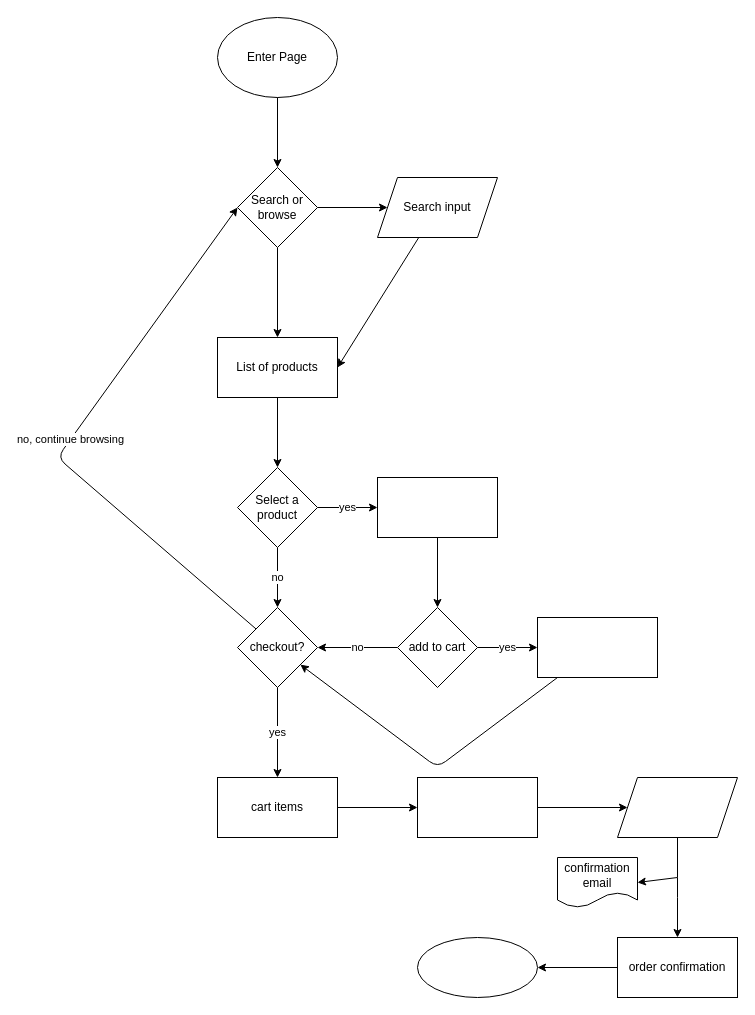
The diagram is 755 pixels wide and 1015 high, and some of its shapes have lost their labels. Each missing label, with the centre of its shape:
"alert: successfully added to cart" belongs at pixel 597 647.
"enter payment info" belongs at pixel 677 807.
"exit website" belongs at pixel 477 967.
"Product details, open webpage" belongs at pixel 437 507.
"total cost and payment screen" belongs at pixel 477 807.
